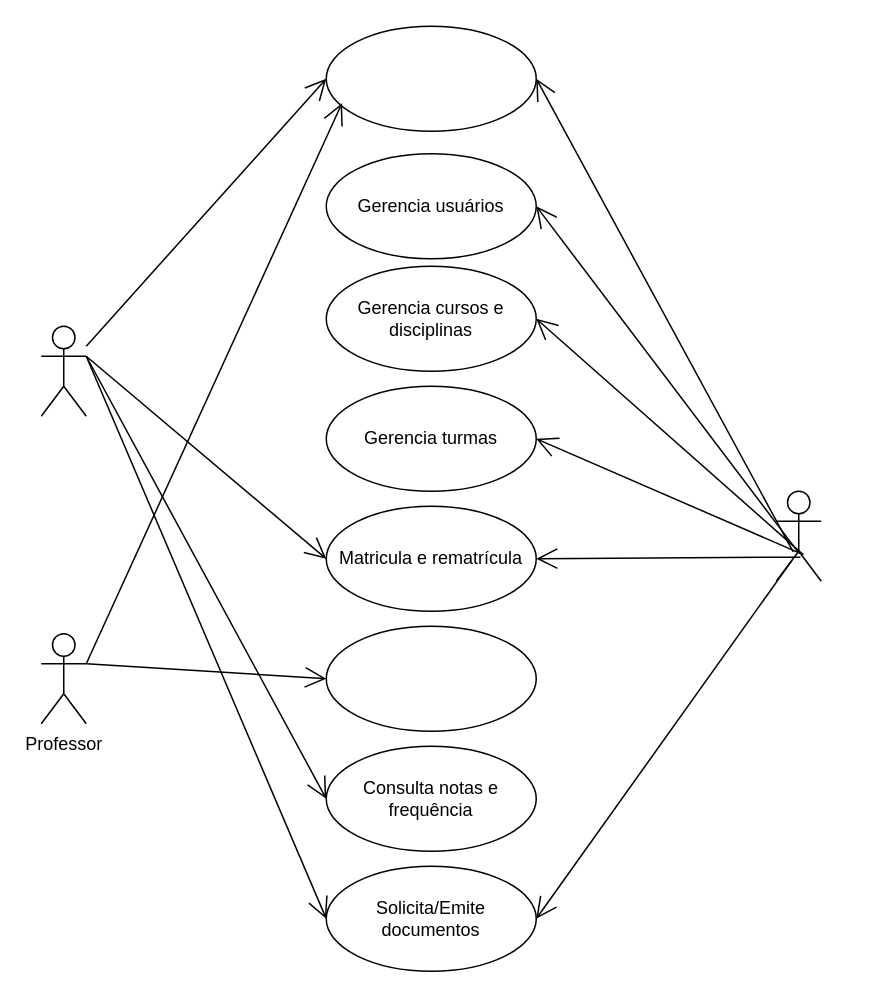
Image size: 882x998. Some labels were removed from this diagram. The centre of each missing label's shape, as x and y in pixels:
"Administração" goes at point (798, 535).
"Aluno" goes at point (63, 370).
"Efetua login/logout" goes at point (430, 78).
"Lança notas e frequência" goes at point (430, 678).
